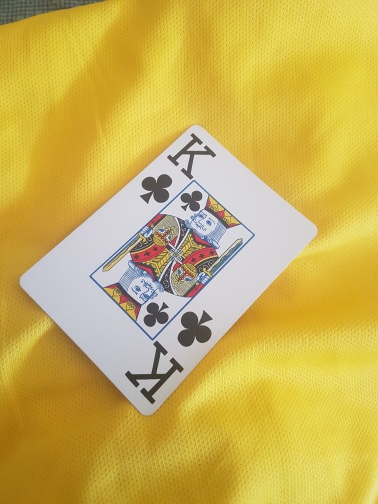king: (21, 126, 321, 416)
